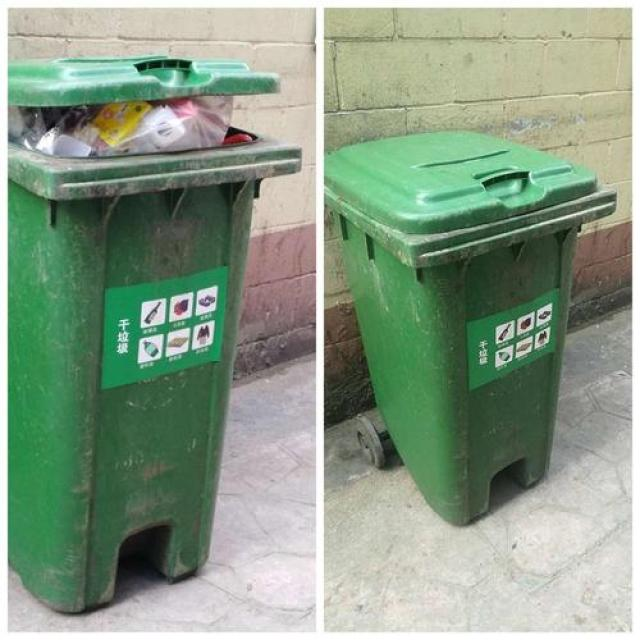garbage_bin: (322, 129, 616, 525)
overflow: (8, 55, 300, 614)
